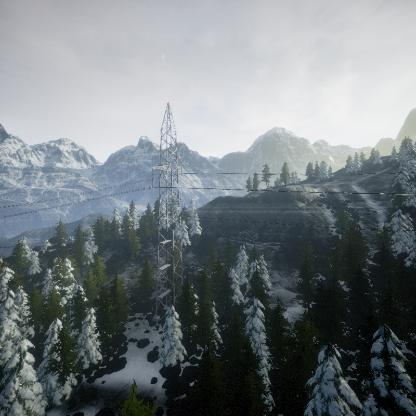tower: (149, 99, 189, 318)
